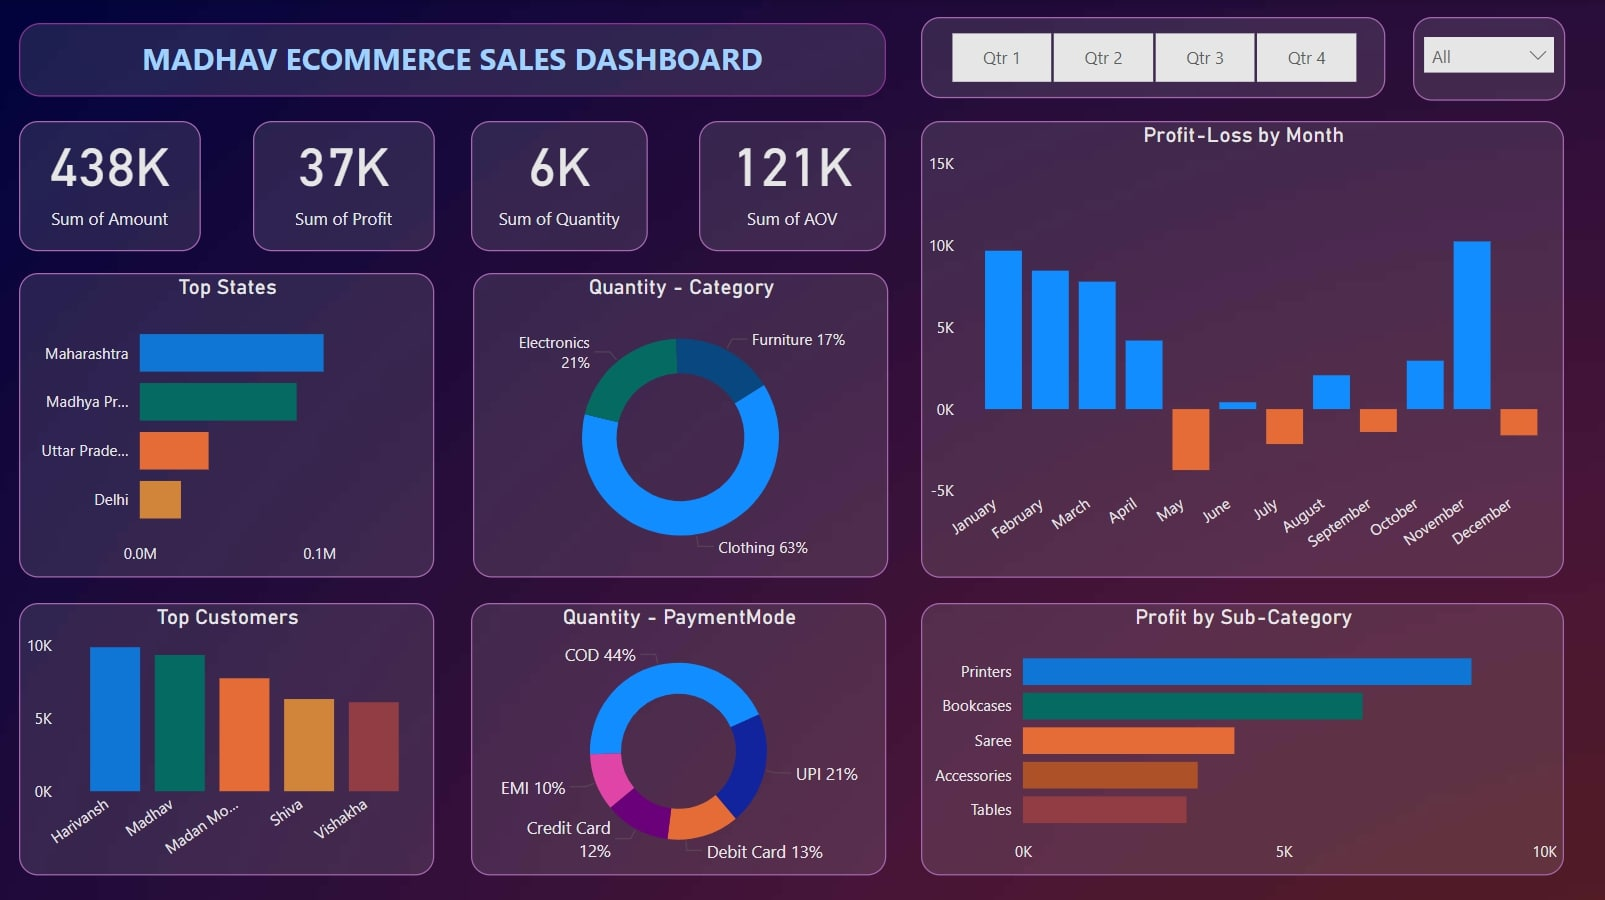

The dashboard page shown, as its layout file describes it:
{"tool":"powerbi","page":{"name":"Page 1","canvas":[1280,720],"ordinal":0},"visuals":[{"type":"columnChart","title":"Profit-Loss by Month","fields":{"Y":["Details (1).Profit"],"Category":["Orders (1).Order Date.Variation.Date Hierarchy.Month"]},"box":[733.7,97.6,511.2,362.9],"z":0},{"type":"textbox","box":[17.6,19.5,688.8,58.5],"z":1000},{"type":"barChart","title":"Profit by Sub-Category","fields":{"Y":["Details (1).Profit"],"Category":["Details (1).Sub-Category"]},"box":[733.7,480,511.2,216.6],"z":2000},{"type":"donutChart","title":"Quantity - Category","fields":{"Y":["Details (1).Quantity"],"Category":["Details (1).Category"]},"box":[378.5,218.5,329.8,242],"z":3000},{"type":"donutChart","title":"Quantity - PaymentMode","fields":{"Y":["Details (1).Quantity"],"Category":["Details (1).PaymentMode"]},"box":[376.6,480,329.8,216.6],"z":4000},{"type":"clusteredBarChart","title":"Top States","fields":{"Y":["Details (1).Amount"],"Category":["Orders (1).State"]},"box":[17.6,218.5,329.8,242],"z":5000},{"type":"columnChart","title":"Top Customers","fields":{"Category":["Orders (1).CustomerName"],"Y":["Details (1).Amount"]},"box":[17.6,480,329.8,216.6],"z":6000},{"type":"cardVisual","fields":{"Data":["Details (1).Amount"]},"box":[17.6,97.6,144.4,103.4],"z":7000},{"type":"cardVisual","fields":{"Data":["Details (1).Profit"]},"box":[202.9,97.6,144.4,103.4],"z":8000},{"type":"cardVisual","fields":{"Data":["Details (1).Quantity"]},"box":[376.6,97.6,140.5,103.4],"z":9000},{"type":"cardVisual","fields":{"Data":["Details (1).AOV"]},"box":[558,97.6,148.3,103.4],"z":10000},{"type":"slicer","fields":{"Values":["Orders (1).Order Date.Variation.Date Hierarchy.Quarter"]},"box":[733.7,13.7,368.8,64.4],"z":11000},{"type":"slicer","fields":{"Values":["Orders (1).State"]},"box":[1125,13.7,121,66.3],"z":12000}]}

Visuals, with their boxes in screenshot pixels (x1, y1, x2, y2), scaled from the page's 1280x720 canvas onto the 1605x900 screenshot:
"Profit-Loss by Month" columnChart: bbox(920, 122, 1561, 576)
textbox: bbox(22, 24, 886, 98)
"Profit by Sub-Category" barChart: bbox(920, 600, 1561, 871)
"Quantity - Category" donutChart: bbox(475, 273, 888, 576)
"Quantity - PaymentMode" donutChart: bbox(472, 600, 886, 871)
"Top States" clusteredBarChart: bbox(22, 273, 436, 576)
"Top Customers" columnChart: bbox(22, 600, 436, 871)
cardVisual - Details (1).Amount: bbox(22, 122, 203, 251)
cardVisual - Details (1).Profit: bbox(254, 122, 435, 251)
cardVisual - Details (1).Quantity: bbox(472, 122, 648, 251)
cardVisual - Details (1).AOV: bbox(700, 122, 886, 251)
slicer - Orders (1).Order Date.Variation.Date Hierarchy.Quarter: bbox(920, 17, 1382, 98)
slicer - Orders (1).State: bbox(1411, 17, 1562, 100)
